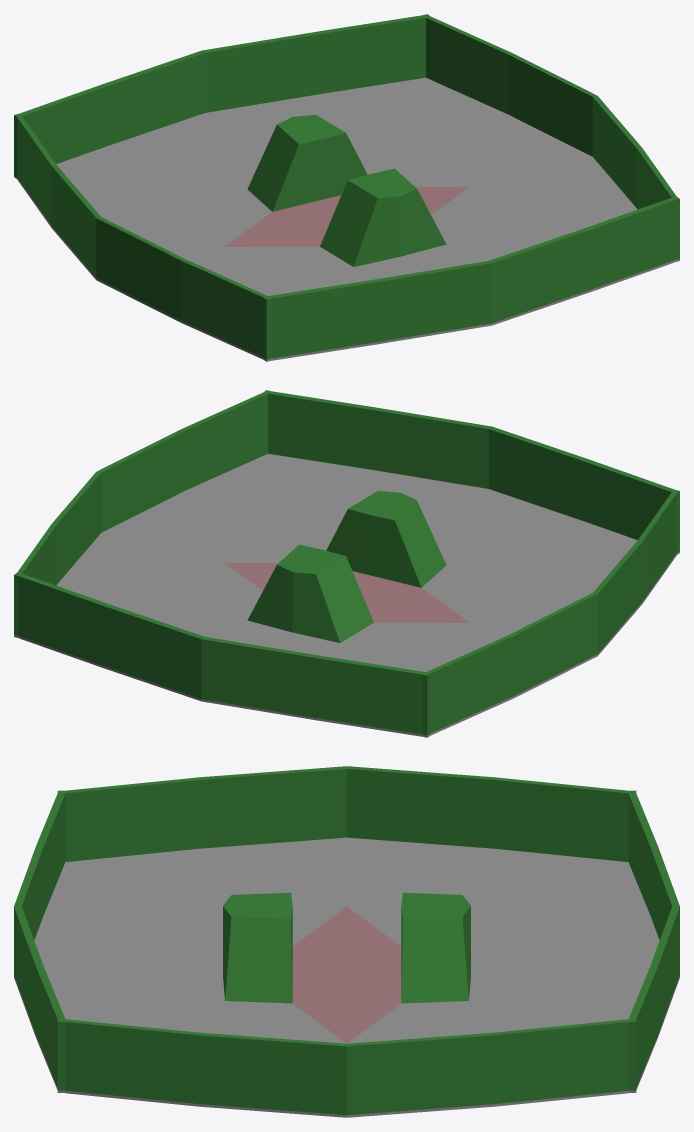
Rendered from test_map.glb.
3 renders of one model, top to bottom at view 1: azimuth 30°, elevation 25°; view 2: azimuth 150°, elevation 25°; view 3: azimuth 270°, elevation 25°, orthographic. The views are drawn at different scales.
Parts seen in each view (by area): view 1: Map; view 2: Map; view 3: Map.
Boxes of the visible parts, x1,y1,x2,y2 form: Map: (14, 14, 679, 361); Map: (14, 390, 679, 737); Map: (14, 766, 679, 1117).
Size of the model in its own units: 183 by 21.86 by 184.
